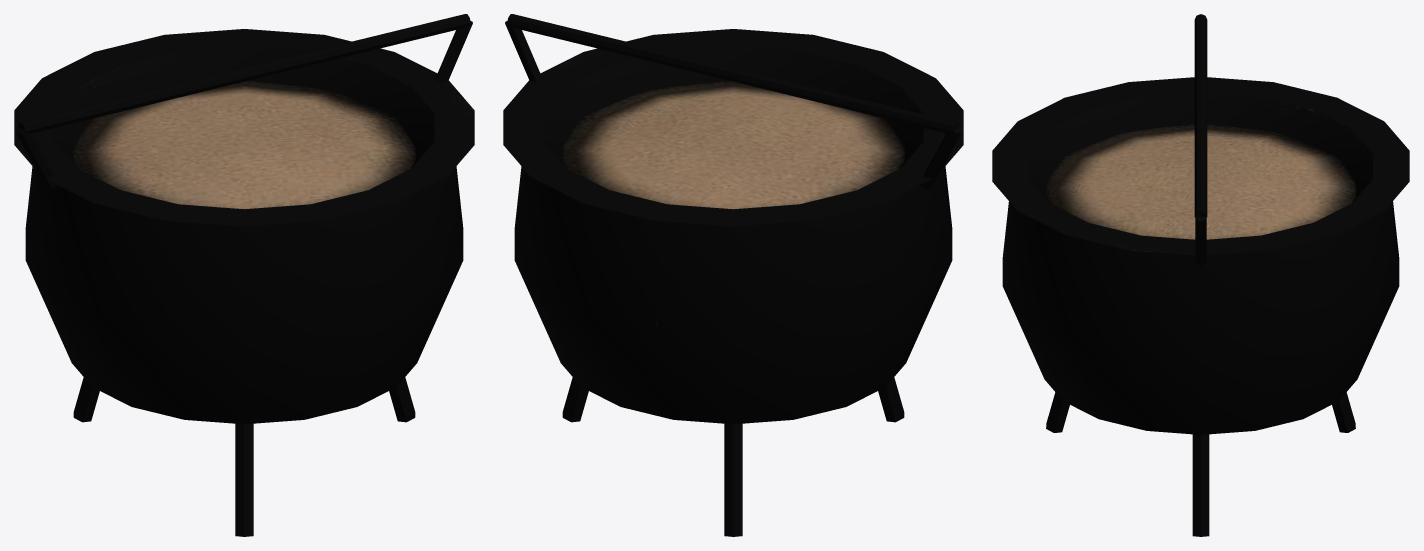
Rendered from cauldron.glb.
3 views of the same model, side by side, from view 1: azimuth 30°, elevation 25°; view 2: azimuth 150°, elevation 25°; view 3: azimuth 270°, elevation 25° (orthographic). The views are drawn at different scales.
Visible parts, largest first — view 1: ear-1; view 2: ear-1; view 3: ear-1.
Part boxes in pixels (x1=…): ear-1: x1=14, y1=14, x2=474, y2=536; ear-1: x1=503, y1=14, x2=963, y2=536; ear-1: x1=992, y1=14, x2=1409, y2=536.
Bounding box in the file's own units: 0.9015 × 0.7369 × 0.7878.
Materials: 1 (1 with a texture image).
